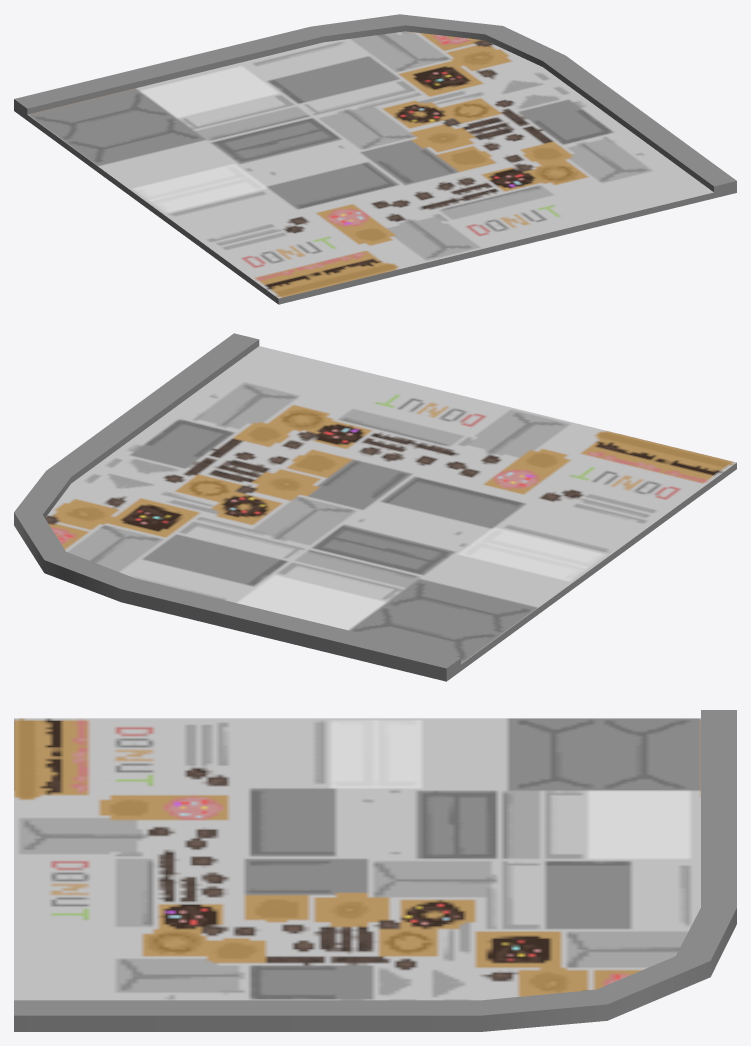
The model's file is Floor_002_C2.FBX.
3 views of the same model, one above another, from view 1: azimuth 30°, elevation 25°; view 2: azimuth 150°, elevation 25°; view 3: azimuth 270°, elevation 25° (orthographic). The views are drawn at different scales.
Visible parts, largest first — view 1: Floor_002_C2; view 2: Floor_002_C2; view 3: Floor_002_C2.
Part boxes in pixels (bbox=[...]): Floor_002_C2: bbox=[14, 14, 736, 304]; Floor_002_C2: bbox=[14, 333, 736, 681]; Floor_002_C2: bbox=[14, 710, 736, 1031].
Size of the model in its own units: 400 by 400 by 10.
